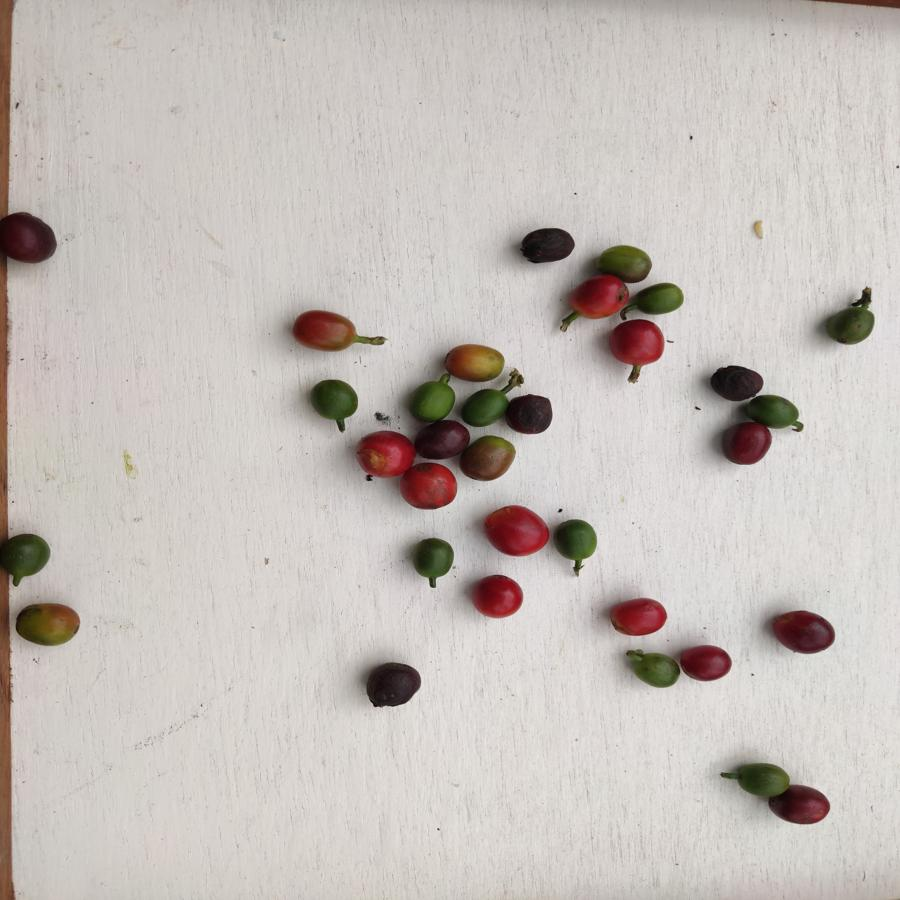Inmaduro: (827, 298, 877, 348), (407, 535, 457, 584), (1, 532, 52, 580), (310, 377, 360, 420), (552, 518, 600, 562), (632, 281, 688, 317), (633, 650, 682, 691), (752, 393, 807, 429), (406, 379, 456, 418), (599, 243, 652, 278), (462, 387, 507, 428)
Maduro: (478, 505, 551, 559), (398, 461, 459, 511), (355, 429, 413, 480), (608, 317, 665, 367), (609, 595, 668, 641), (471, 571, 525, 620), (571, 274, 625, 318)
Pinton: (291, 308, 359, 358), (15, 601, 82, 648), (444, 340, 506, 381), (465, 434, 515, 479)
Sobremaduro: (357, 658, 424, 712), (771, 607, 839, 655), (1, 210, 58, 263), (770, 783, 832, 829), (720, 423, 771, 468), (517, 226, 576, 264), (415, 420, 469, 459), (680, 645, 732, 685), (505, 393, 552, 436), (709, 364, 764, 398)
